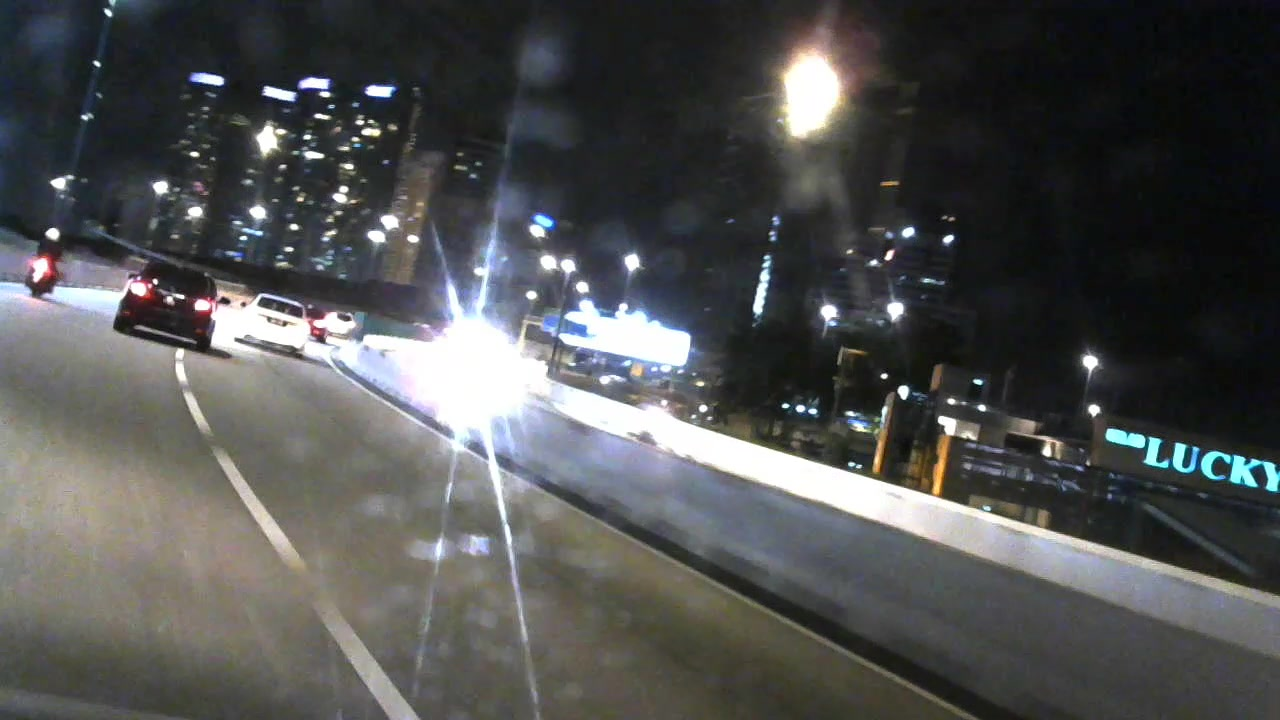Car: (112, 252, 221, 359), (231, 291, 313, 359), (321, 309, 362, 336)
